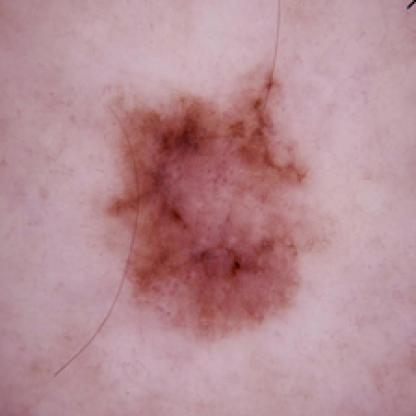Skin_Cancer-Malignant: (99, 44, 331, 345)
